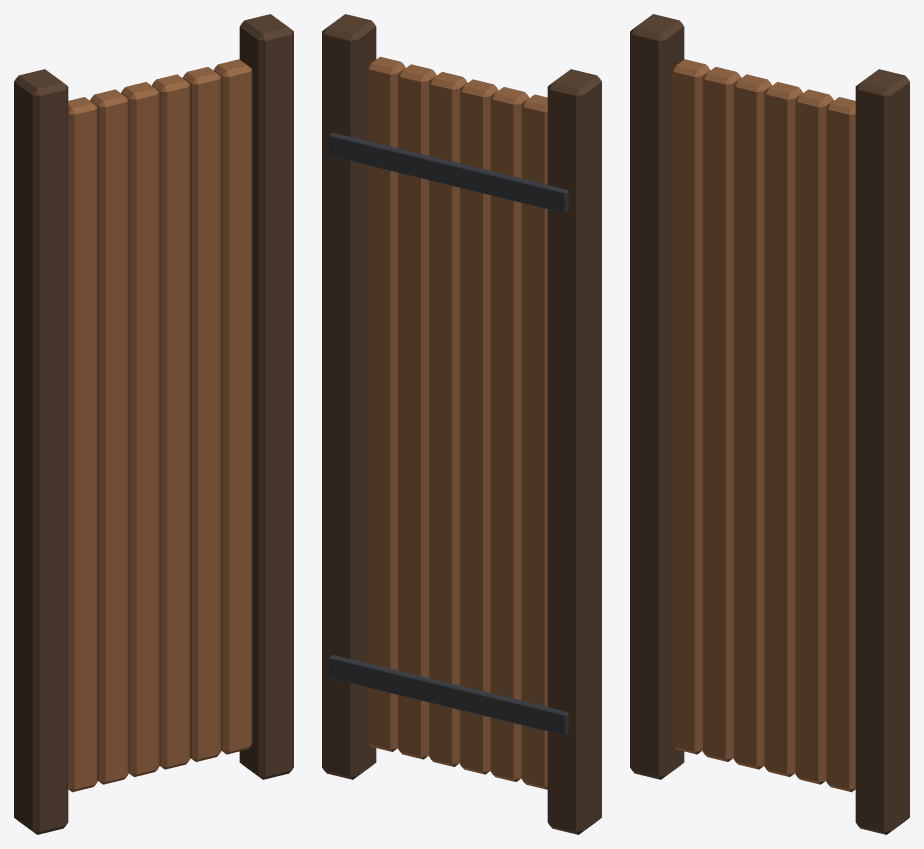
File: shutter.glb
3 renders of one model, left to right at view 1: azimuth 30°, elevation 25°; view 2: azimuth 150°, elevation 25°; view 3: azimuth 330°, elevation 25°, orthographic.
Visible parts, largest first — view 1: Alfa_shutter; view 2: Alfa_shutter; view 3: Alfa_shutter.
Part boxes in pixels (left/top/right/bottom): Alfa_shutter: left=14, top=14, right=293, bottom=834; Alfa_shutter: left=322, top=14, right=601, bottom=834; Alfa_shutter: left=630, top=14, right=909, bottom=834.
Size of the model in its own units: 0.44 by 1.2 by 0.079.
